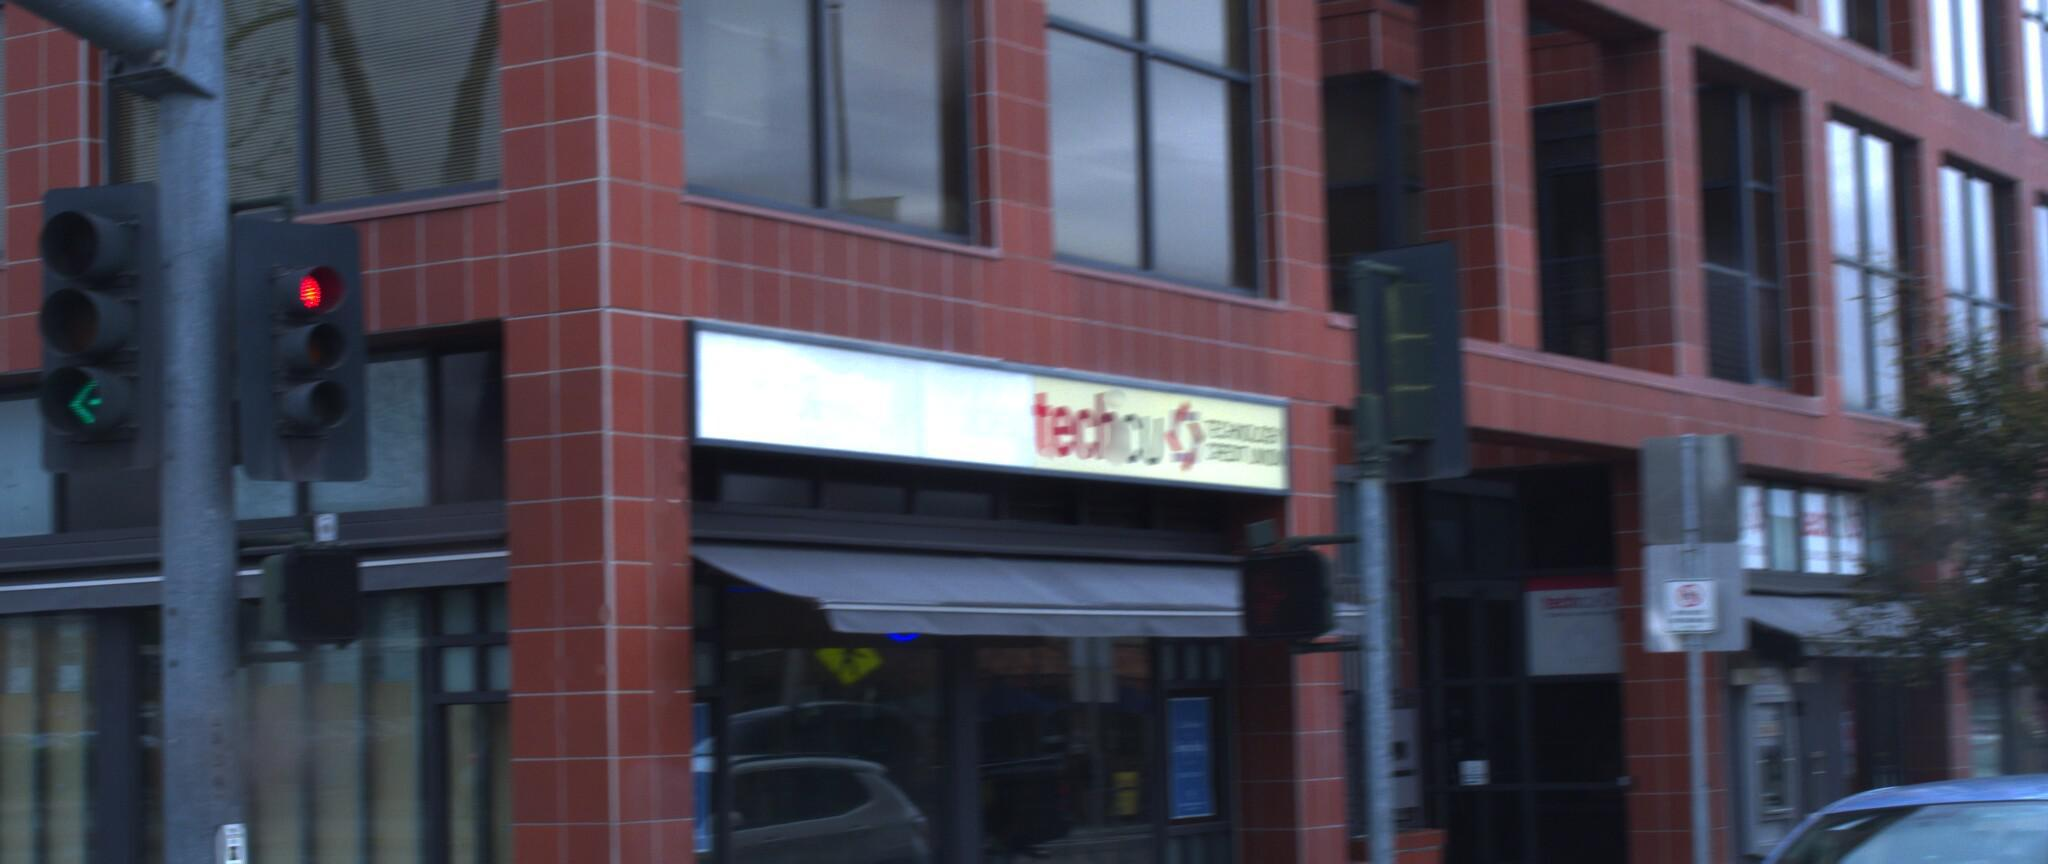car: (1603, 730, 2048, 864)
